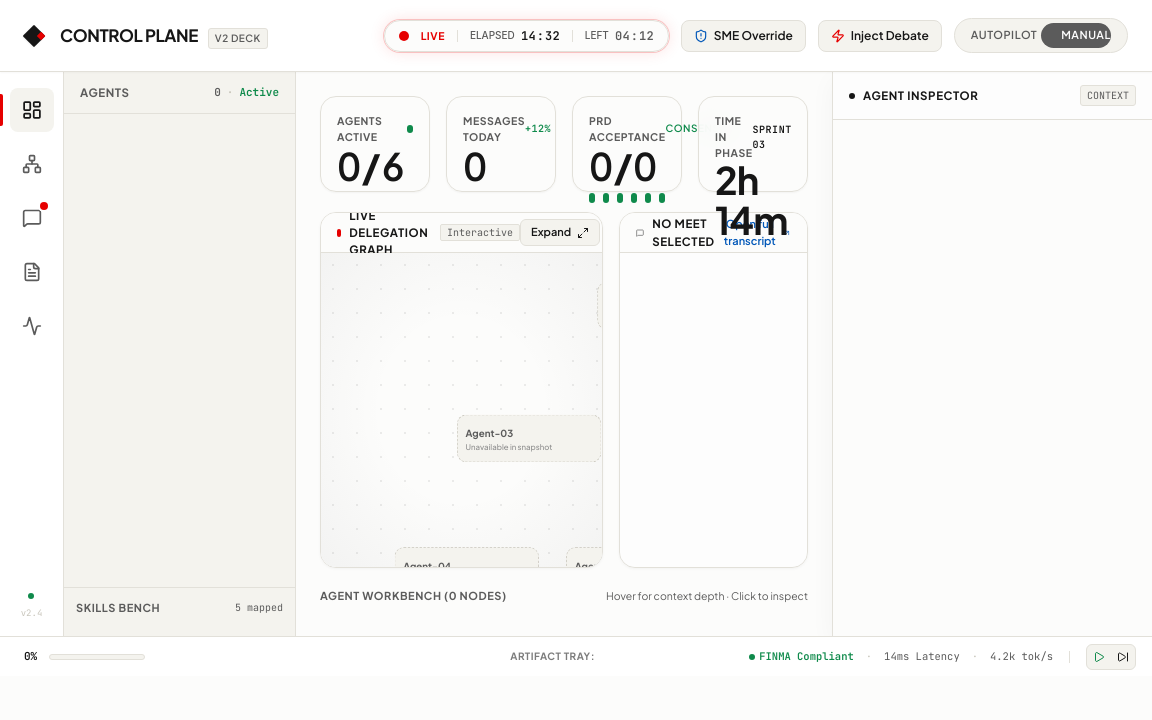
Test: ControlPlaneView › renders the artifacts tab without version history instead of crashing
What coordinates should you click on to do the following:
click the button named "Artifacts — PRD & Architecture Diffs"
I would click on:
 (32, 272)
Its box is [10, 250, 54, 294].
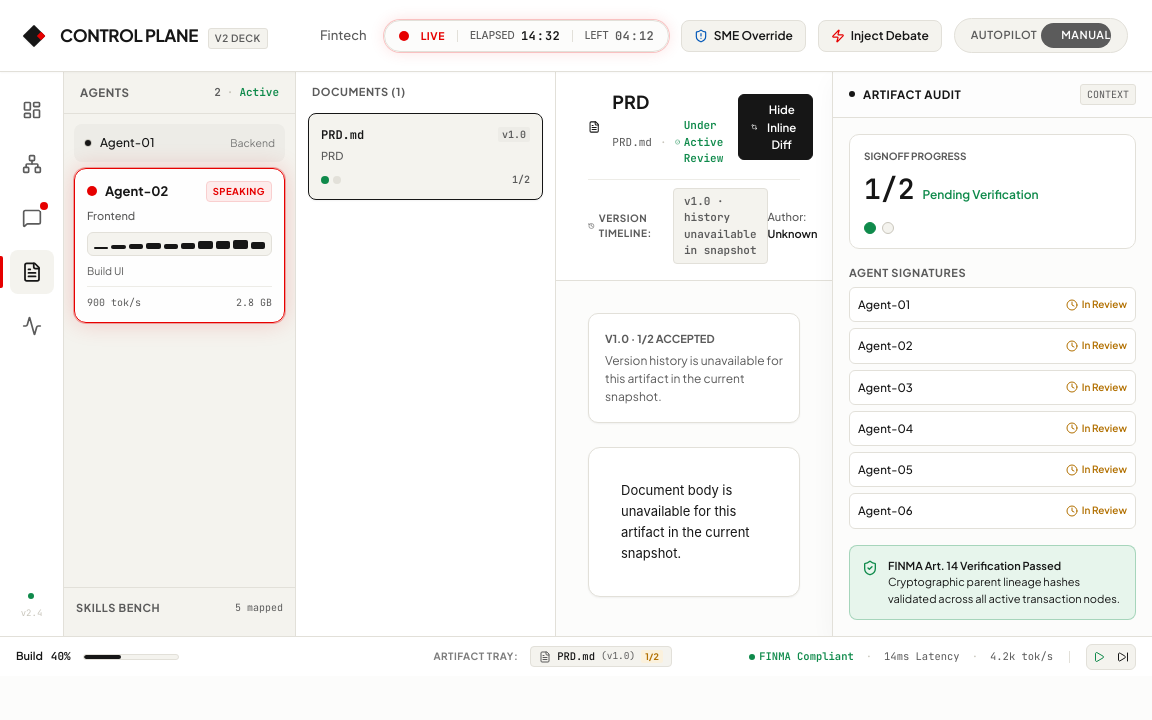
Now the text "DOCUMENTS (1)" is shown, box [312, 85, 406, 98]
Now the text "PRD.md" below "DOCUMENTS (" is shown, box [321, 126, 364, 142]
Now the text "v1.0 · history unavailable in snapshot" is shown, box [673, 188, 768, 264]
